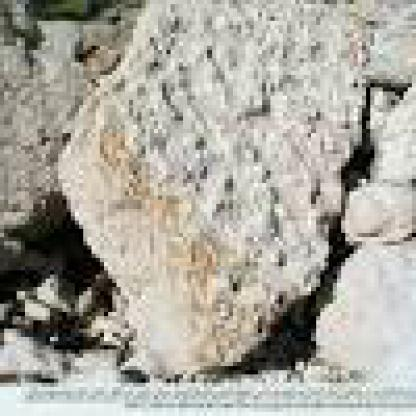Sedimentary_Chalk: (50, 13, 378, 374)
